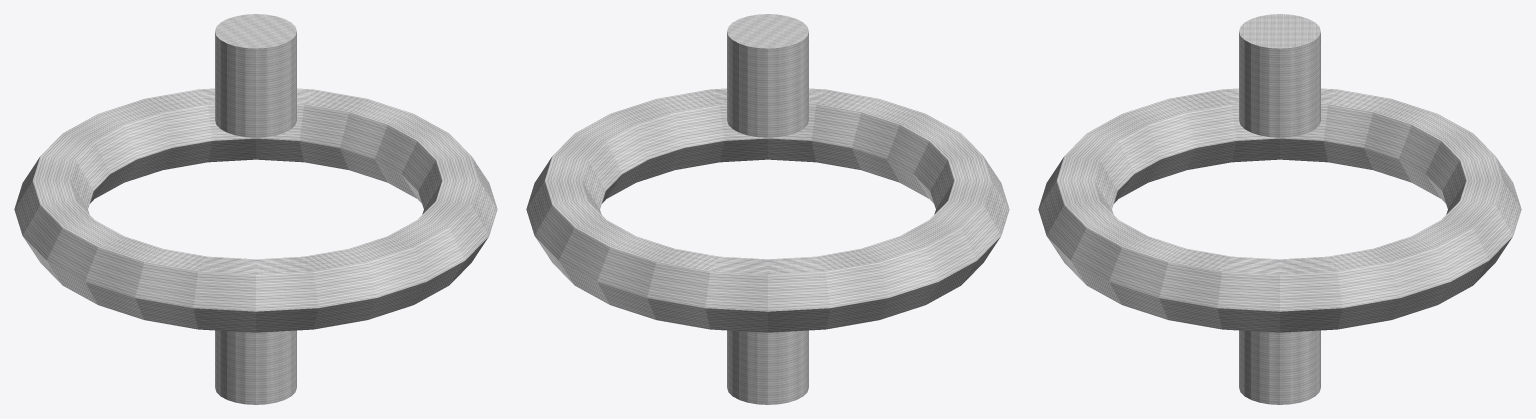
File: item-screws_variant_a.glb
3 renders of one model, left to right at view 1: azimuth 30°, elevation 25°; view 2: azimuth 150°, elevation 25°; view 3: azimuth 270°, elevation 25°, orthographic.
Visible parts, largest first — view 1: Coiled conductor.001, Coil end.002, Coil end.001; view 2: Coiled conductor.001, Coil end.002, Coil end.001; view 3: Coiled conductor.001, Coil end.002, Coil end.001.
Part boxes in pixels (x1,y1,x2,y2): Coiled conductor.001: (14,88,497,332); Coil end.002: (215,14,296,137); Coil end.001: (215,330,296,404); Coiled conductor.001: (526,88,1009,332); Coil end.002: (727,14,808,137); Coil end.001: (727,330,808,404); Coiled conductor.001: (1038,88,1521,332); Coil end.002: (1239,14,1320,137); Coil end.001: (1239,330,1320,404).
Size of what is drawn, in the model's own units: 0.59 by 0.48 by 0.59.
Materials: 2 (2 with a texture image).
